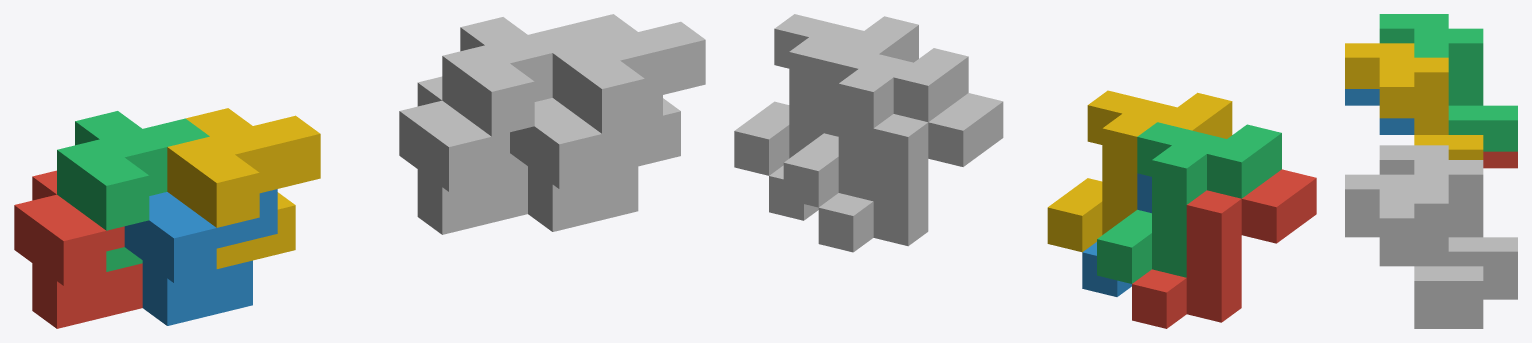
The model's file is tiling.obj.
The picture shows the model from 3 angles, left to right: view 1: azimuth 30°, elevation 25°; view 2: azimuth 150°, elevation 25°; view 3: azimuth 270°, elevation 25°; orthographic projection. The views are drawn at different scales.
Visible parts, largest first — view 1: copy_1_domain_4, copy_1_domain_8, copy_1_domain_2, copy_1_domain_6, copy_1_domain_5, copy_1_domain_1, copy_1_domain_7, copy_1_domain_3; view 2: copy_1_domain_7, copy_1_domain_3, copy_1_domain_5, copy_1_domain_1, copy_1_domain_4, copy_1_domain_8, copy_1_domain_2, copy_1_domain_6; view 3: copy_1_domain_8, copy_1_domain_4, copy_1_domain_7, copy_1_domain_3, copy_1_domain_6, copy_1_domain_2, copy_1_domain_1, copy_1_domain_5.
Boxes of the visible parts, x1,y1,x2,y2 form: copy_1_domain_4: [167, 108, 320, 268]; copy_1_domain_8: [552, 14, 705, 175]; copy_1_domain_2: [124, 189, 277, 325]; copy_1_domain_6: [510, 95, 662, 231]; copy_1_domain_5: [399, 76, 527, 234]; copy_1_domain_1: [14, 170, 142, 328]; copy_1_domain_7: [442, 17, 594, 177]; copy_1_domain_3: [57, 111, 209, 271]; copy_1_domain_7: [783, 45, 968, 207]; copy_1_domain_3: [1097, 122, 1281, 283]; copy_1_domain_5: [818, 93, 1003, 252]; copy_1_domain_1: [1132, 169, 1316, 328]; copy_1_domain_4: [1047, 90, 1232, 252]; copy_1_domain_8: [734, 14, 918, 175]; copy_1_domain_2: [1082, 173, 1151, 296]; copy_1_domain_6: [769, 97, 838, 220]; copy_1_domain_8: [1345, 174, 1483, 312]; copy_1_domain_4: [1345, 43, 1483, 159]; copy_1_domain_7: [1379, 145, 1517, 282]; copy_1_domain_3: [1379, 14, 1517, 151]; copy_1_domain_6: [1345, 220, 1483, 328]; copy_1_domain_2: [1345, 89, 1414, 134]; copy_1_domain_1: [1483, 151, 1517, 168]; copy_1_domain_5: [1483, 283, 1517, 299].
Size of the model in its own units: 15 by 4 by 5.
